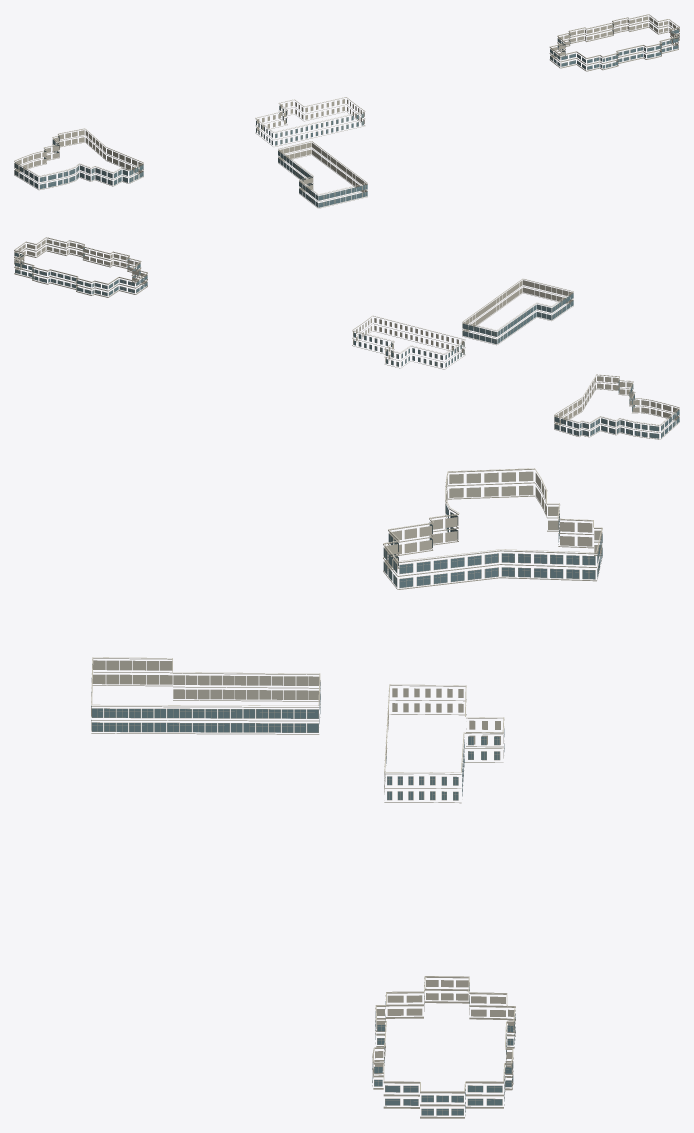
File: detail.glb
3 views of the same model, one above another, from view 1: azimuth 30°, elevation 25°; view 2: azimuth 150°, elevation 25°; view 3: azimuth 270°, elevation 25° (orthographic). The views are drawn at different scales.
Parts seen in each view (by area): view 1: human-sciences-building-belt, stem-building-belt, larrison-hall-belt, woodward-hall-belt, stem-building-windows, larrison-hall-windows, human-sciences-building-windows, woodward-hall-windows; view 2: human-sciences-building-belt, stem-building-belt, larrison-hall-belt, woodward-hall-belt, stem-building-windows, larrison-hall-windows, human-sciences-building-windows, woodward-hall-windows; view 3: larrison-hall-belt, stem-building-belt, human-sciences-building-belt, larrison-hall-windows, stem-building-windows, woodward-hall-belt, human-sciences-building-windows, woodward-hall-windows.
Boxes of the visible parts, box(x1,y1,x2,y2) form: human-sciences-building-belt: box(549, 14, 679, 71); stem-building-belt: box(14, 128, 143, 190); larrison-hall-belt: box(278, 141, 367, 208); woodward-hall-belt: box(255, 97, 365, 146); stem-building-windows: box(14, 136, 143, 188); larrison-hall-windows: box(278, 151, 367, 207); human-sciences-building-windows: box(550, 23, 678, 69); woodward-hall-windows: box(256, 106, 363, 145); human-sciences-building-belt: box(14, 237, 147, 297); stem-building-belt: box(554, 374, 679, 439); larrison-hall-belt: box(462, 278, 573, 345); woodward-hall-belt: box(352, 315, 465, 369); stem-building-windows: box(554, 380, 679, 438); larrison-hall-windows: box(462, 293, 573, 343); human-sciences-building-windows: box(14, 247, 147, 295); woodward-hall-windows: box(353, 333, 464, 367); larrison-hall-belt: box(91, 657, 320, 734); stem-building-belt: box(383, 468, 602, 589); human-sciences-building-belt: box(372, 976, 515, 1118); larrison-hall-windows: box(91, 664, 320, 732); stem-building-windows: box(383, 504, 602, 587); woodward-hall-belt: box(384, 684, 504, 803); human-sciences-building-windows: box(372, 982, 515, 1115); woodward-hall-windows: box(386, 729, 504, 800).
Bounding box in the file's own units: 404 × 9.11 × 140.
